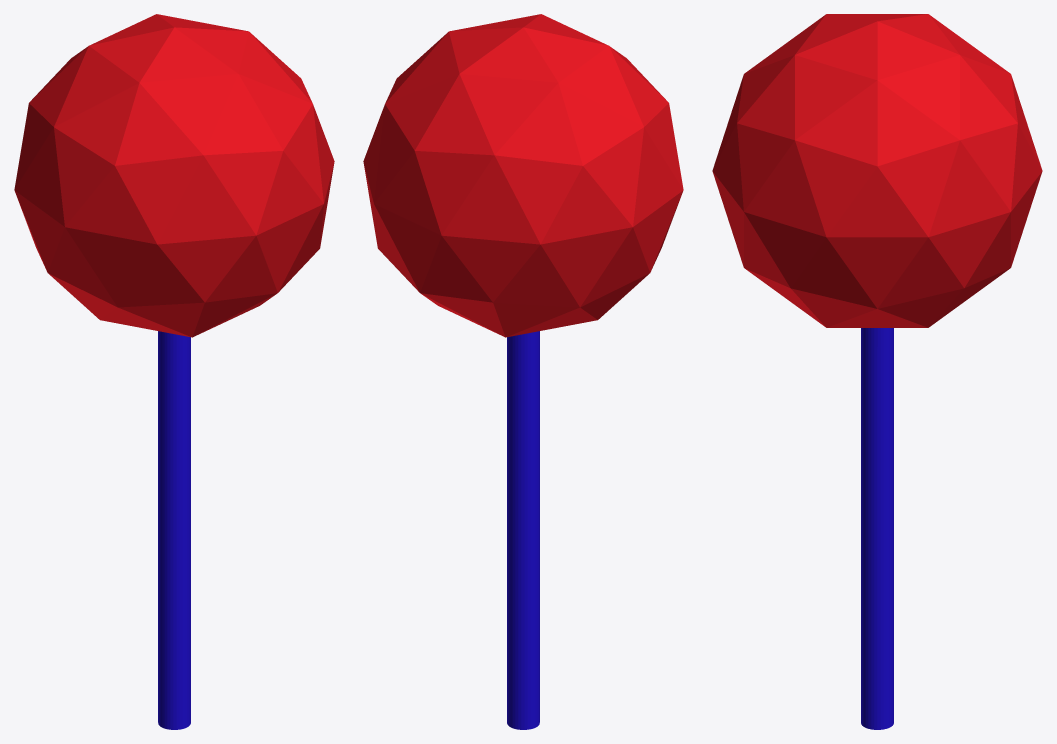
File: lizak.fbx
3 renders of one model, left to right at view 1: azimuth 30°, elevation 25°; view 2: azimuth 150°, elevation 25°; view 3: azimuth 270°, elevation 25°, orthographic.
Visible parts, largest first — view 1: Icosphere, Cylinder; view 2: Icosphere, Cylinder; view 3: Icosphere, Cylinder.
Boxes of the visible parts, x1,y1,x2,y2 form: Icosphere: [14, 14, 334, 337]; Cylinder: [158, 331, 190, 729]; Icosphere: [363, 14, 683, 337]; Cylinder: [507, 331, 539, 729]; Icosphere: [712, 14, 1042, 327]; Cylinder: [861, 328, 893, 729].
Size of the model in its own units: 190 by 469 by 200.
